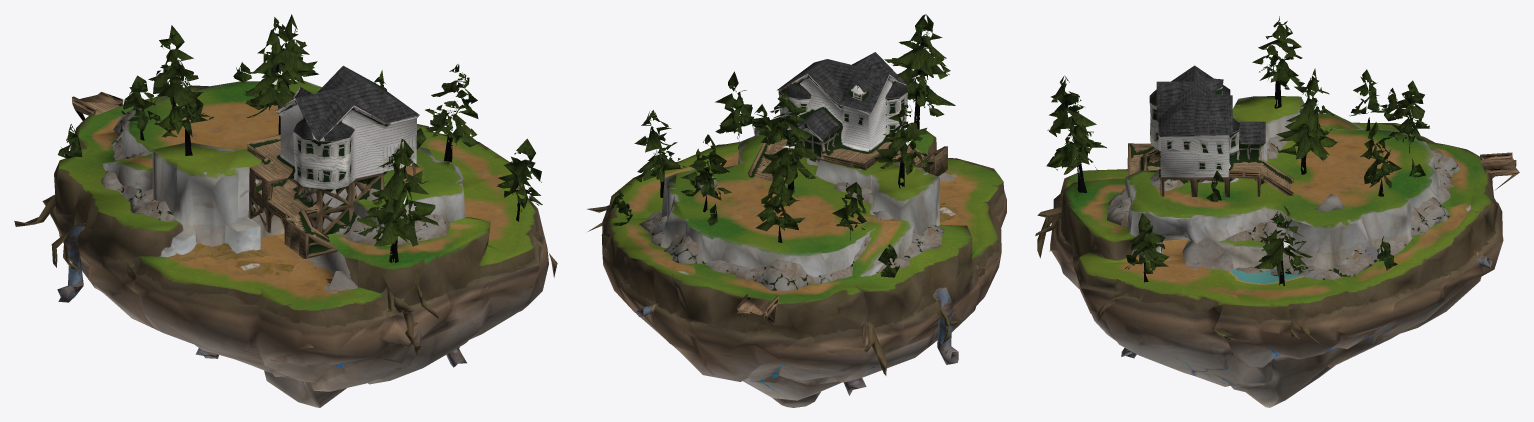
The model's file is full_loot_island.fbx.
3 renders of one model, left to right at view 1: azimuth 30°, elevation 25°; view 2: azimuth 150°, elevation 25°; view 3: azimuth 270°, elevation 25°, orthographic. The views are drawn at different scales.
Visible parts, largest first — view 1: SM_PROXY_SkyIsland_2400_Base_LOD0.mo, SM_PROXY_SkyIsland_2400_House_LOD0.mo, SM_PROXY_SkyIsland_2400_Trees_LOD0.mo; view 2: SM_PROXY_SkyIsland_2400_Base_LOD0.mo, SM_PROXY_SkyIsland_2400_House_LOD0.mo, SM_PROXY_SkyIsland_2400_Trees_LOD0.mo; view 3: SM_PROXY_SkyIsland_2400_Base_LOD0.mo, SM_PROXY_SkyIsland_2400_House_LOD0.mo, SM_PROXY_SkyIsland_2400_Trees_LOD0.mo.
Boxes of the visible parts, x1,y1,x2,y2 form: SM_PROXY_SkyIsland_2400_Base_LOD0.mo: (14, 81, 557, 407); SM_PROXY_SkyIsland_2400_House_LOD0.mo: (101, 65, 449, 258); SM_PROXY_SkyIsland_2400_Trees_LOD0.mo: (58, 14, 542, 262); SM_PROXY_SkyIsland_2400_Base_LOD0.mo: (587, 117, 1006, 407); SM_PROXY_SkyIsland_2400_House_LOD0.mo: (639, 52, 947, 290); SM_PROXY_SkyIsland_2400_Trees_LOD0.mo: (610, 14, 955, 277); SM_PROXY_SkyIsland_2400_Base_LOD0.mo: (1035, 96, 1519, 407); SM_PROXY_SkyIsland_2400_House_LOD0.mo: (1107, 65, 1460, 279); SM_PROXY_SkyIsland_2400_Trees_LOD0.mo: (1046, 16, 1429, 285).
Size of the model in its own units: 6925 by 5809 by 7574.
